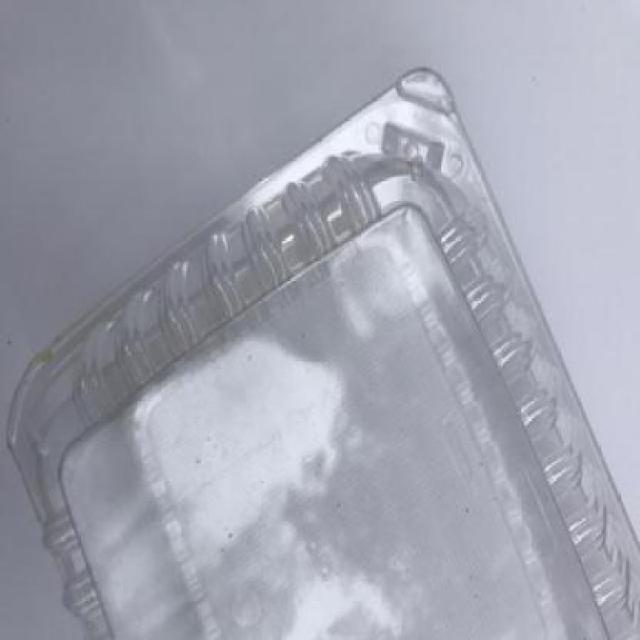PLASTIC: (7, 56, 638, 638)
